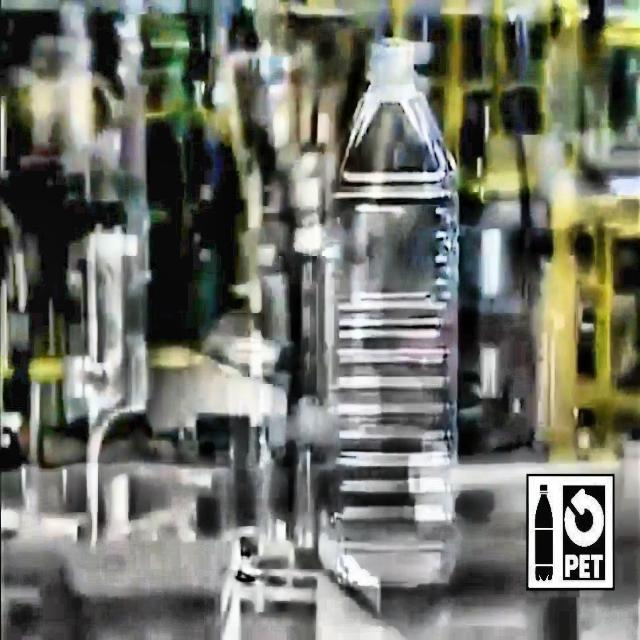plastic bottle: (334, 38, 459, 585)
